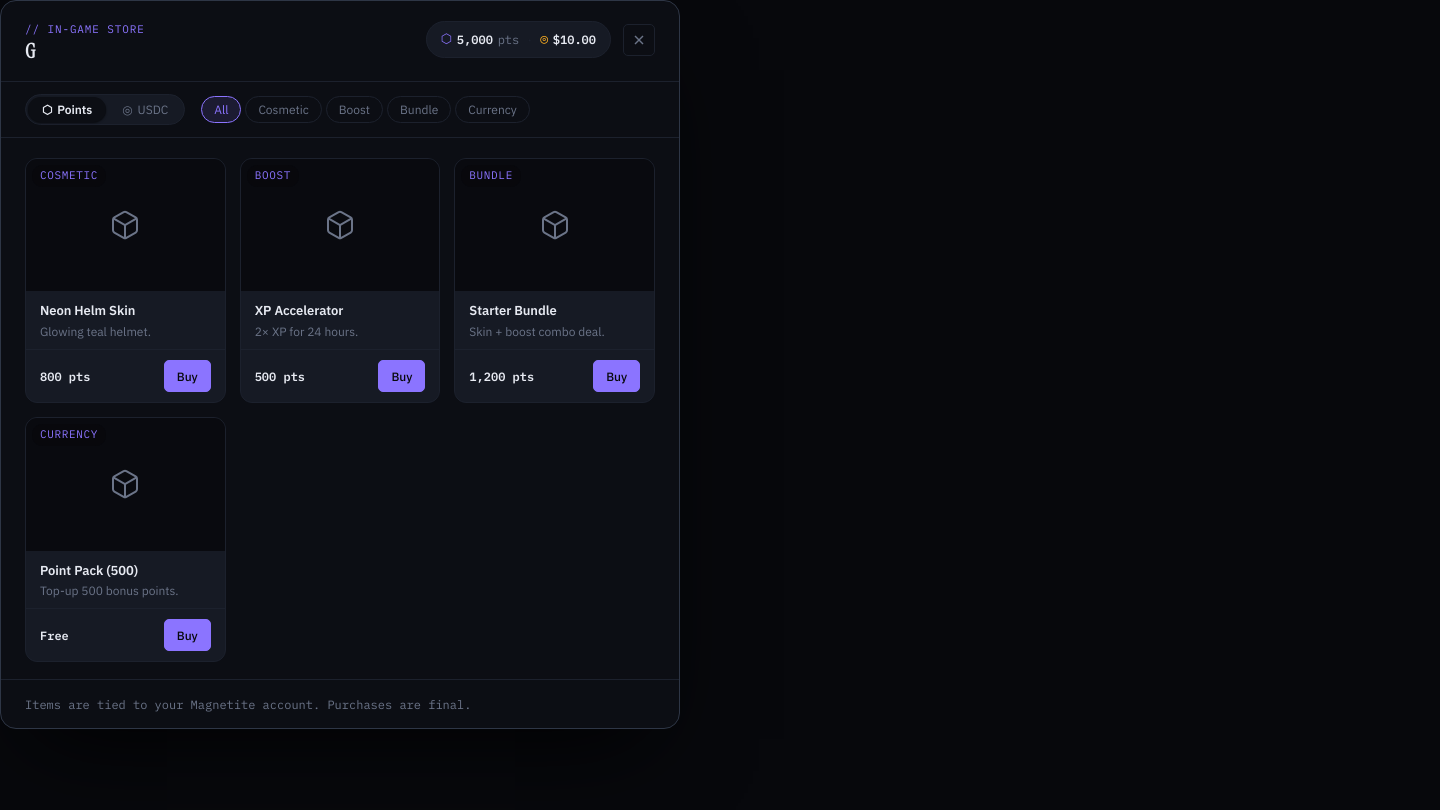
it: InGameStore › filters to show only selected type when type button is clicked
The image size is (1440, 810).
# Click "Boost" filter
Click the button "Boost": (354, 110) x1=326 y1=96 x2=383 y2=123
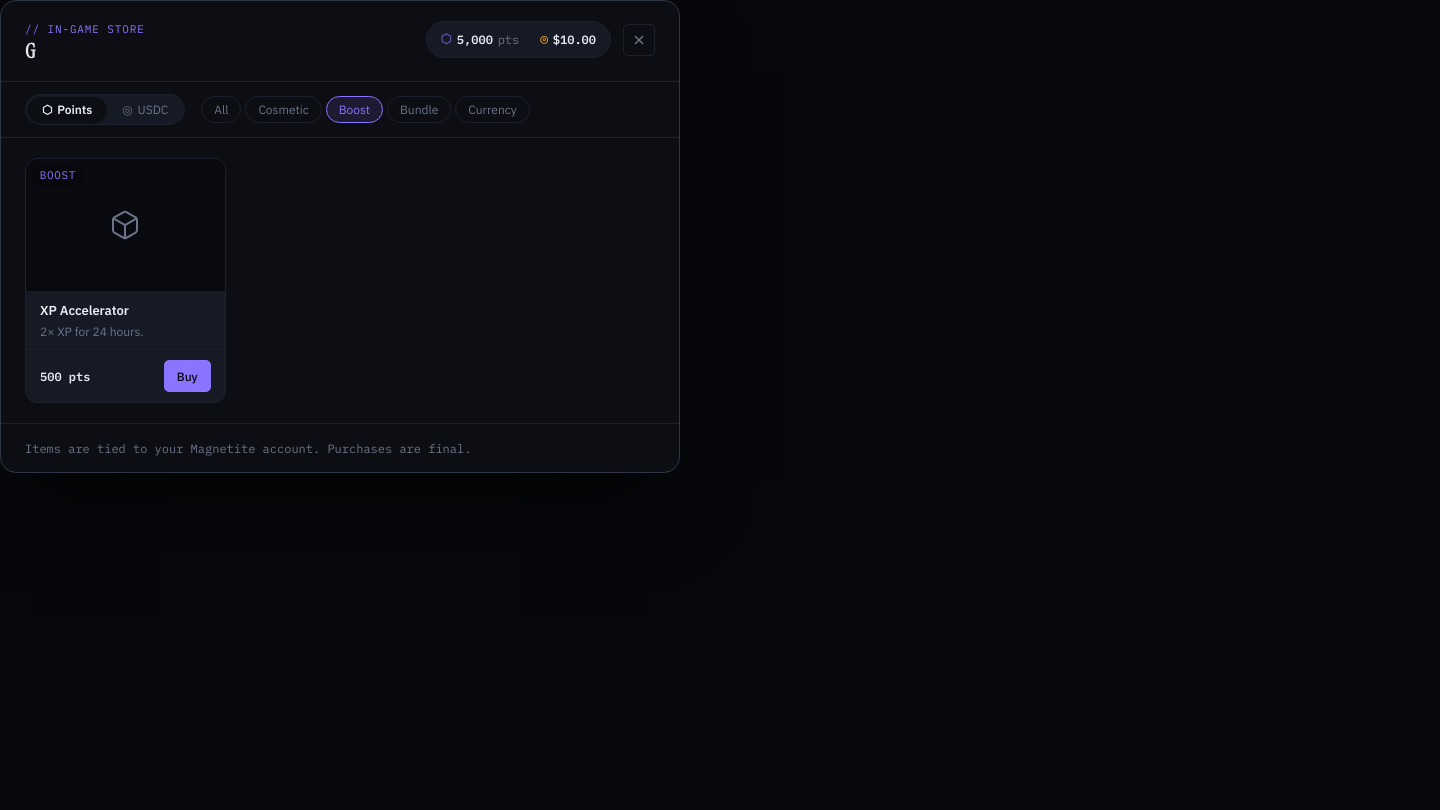
Expected: the heading "XP Accelerator" is shown, x1=40 y1=302 x2=129 y2=319
Now the heading "Neon Helm Skin" is gone
